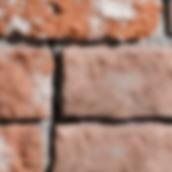brick: (61, 46, 171, 116), (51, 123, 171, 171), (0, 54, 49, 117), (0, 124, 42, 171), (14, 47, 48, 54), (167, 0, 171, 31), (4, 49, 11, 54)
broken_brick: (0, 0, 161, 40)
crack: (0, 2, 78, 169)
